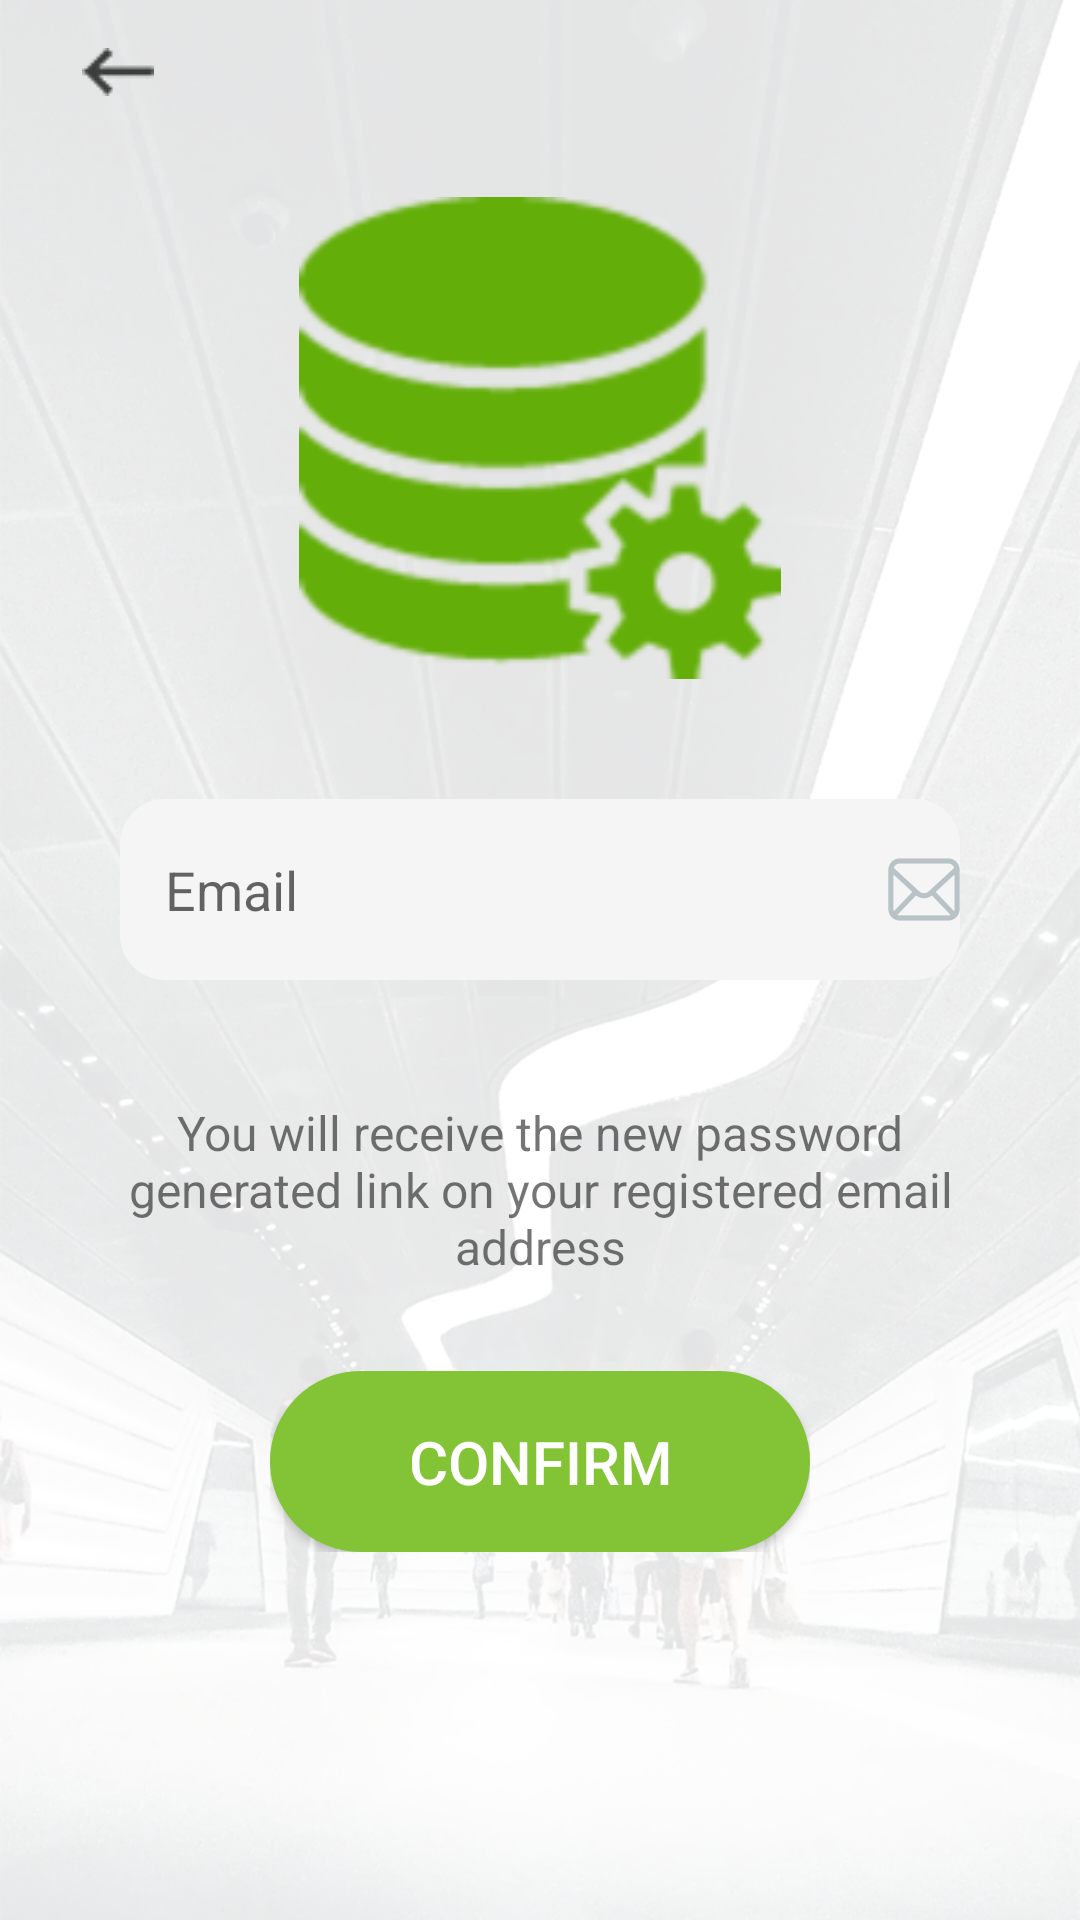

Icon click points for this 1080×1920 phone screenshot, format point (x, y):
back: point (118, 72)
